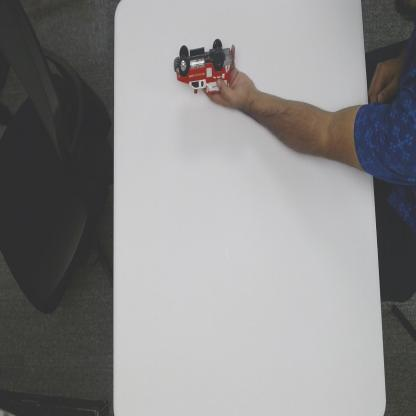Arm: (241, 66, 416, 178)
Firetruck: (173, 32, 238, 95)
